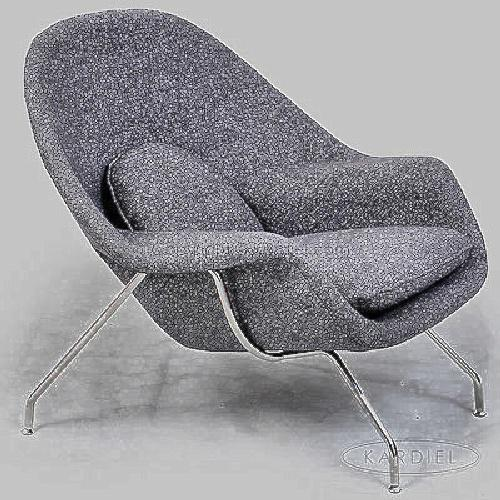chair: (28, 16, 472, 456)
